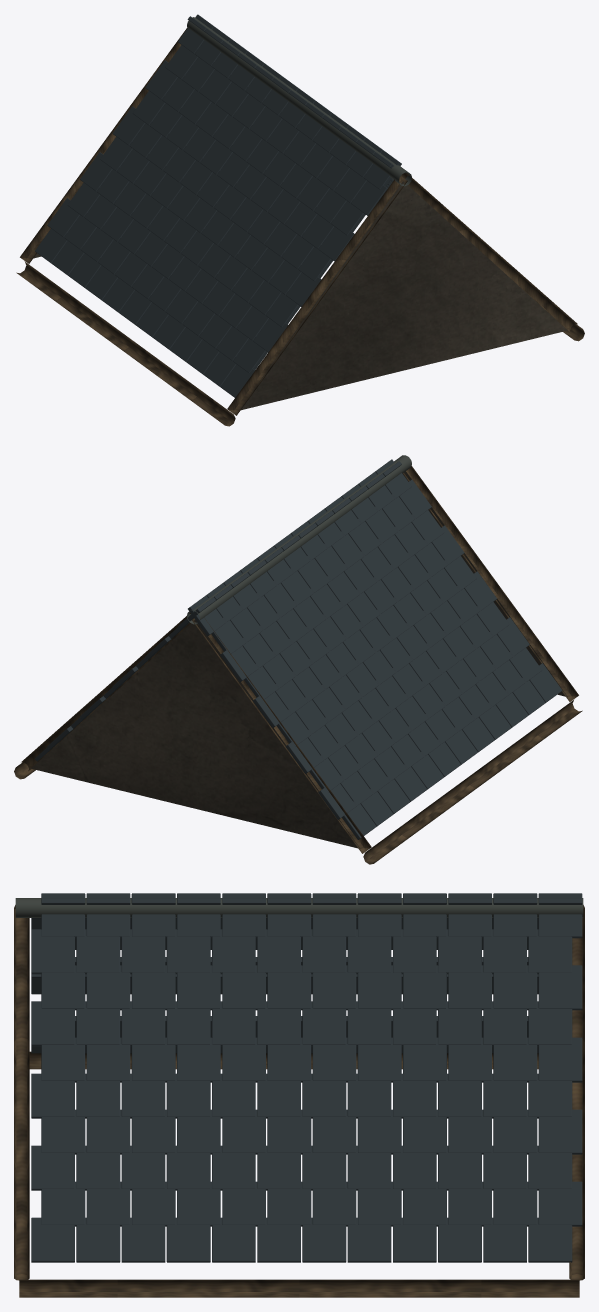
The model's file is C11_roof.gltf.
3 views of the same model, one above another, from view 1: azimuth 30°, elevation 25°; view 2: azimuth 150°, elevation 25°; view 3: azimuth 270°, elevation 25° (orthographic). The views are drawn at different scales.
Parts seen in each view (by area): view 1: Plastered gable.001, Roof fascia, Barge board.002, Ridge cap, Barge board.003, Barge board, Split slate shingle.059, Split slate shingle.035, Split slate shingle.083, Split slate shingle.107, Split slate shingle.023, Split slate shingle.024 (+102 smaller); view 2: Plastered gable, Roof fascia, Barge board.002, Ridge cap, Barge board, Barge board.001, Split slate shingle.024, Split slate shingle.048, Split slate shingle.072, Split slate shingle.096, Split slate shingle.012, Split slate shingle.036 (+104 smaller); view 3: Roof fascia.001, Ridge cap, Barge board.003, Barge board.001, Split slate shingle.144, Split slate shingle.239, Split slate shingle.236, Split slate shingle.216, Split slate shingle.168, Split slate shingle.192, Split slate shingle.232, Split slate shingle.237 (+113 smaller).
Part boxes in pixels (x1,y1,x2,y2): Plastered gable.001: [238, 181, 567, 410]; Roof fascia: [16, 261, 235, 426]; Barge board.002: [227, 176, 407, 415]; Ridge cap: [187, 17, 411, 186]; Barge board.003: [399, 173, 577, 332]; Barge board: [20, 27, 187, 263]; Split slate shingle.059: [298, 244, 332, 281]; Split slate shingle.035: [331, 198, 365, 235]; Split slate shingle.083: [266, 290, 300, 327]; Split slate shingle.107: [233, 336, 267, 372]; Split slate shingle.023: [351, 181, 387, 215]; Split slate shingle.024: [145, 60, 177, 99]; Plastered gable: [31, 620, 359, 848]; Roof fascia: [363, 700, 582, 864]; Barge board.002: [403, 465, 578, 701]; Ridge cap: [187, 455, 411, 624]; Barge board: [192, 617, 371, 853]; Barge board.001: [21, 613, 190, 770]; Split slate shingle.024: [220, 646, 258, 682]; Split slate shingle.048: [253, 692, 291, 727]; Split slate shingle.072: [285, 738, 323, 773]; Split slate shingle.096: [318, 784, 356, 819]; Split slate shingle.012: [211, 617, 245, 654]; Split slate shingle.036: [244, 663, 278, 700]; Roof fascia.001: [19, 1279, 579, 1297]; Ridge cap: [15, 898, 583, 917]; Barge board.003: [14, 908, 29, 1280]; Barge board.001: [569, 908, 584, 1280]; Split slate shingle.144: [538, 965, 582, 1010]; Split slate shingle.239: [31, 1217, 74, 1262]; Split slate shingle.236: [166, 1217, 210, 1262]; Split slate shingle.216: [538, 1181, 582, 1226]; Split slate shingle.168: [538, 1037, 582, 1082]; Split slate shingle.192: [538, 1109, 582, 1154]; Split slate shingle.232: [347, 1217, 391, 1262]; Split slate shingle.237: [121, 1217, 165, 1262].
Bounding box in the file's own units: 4.39 × 2.49 × 4.48.
5 materials, 3 textured.
